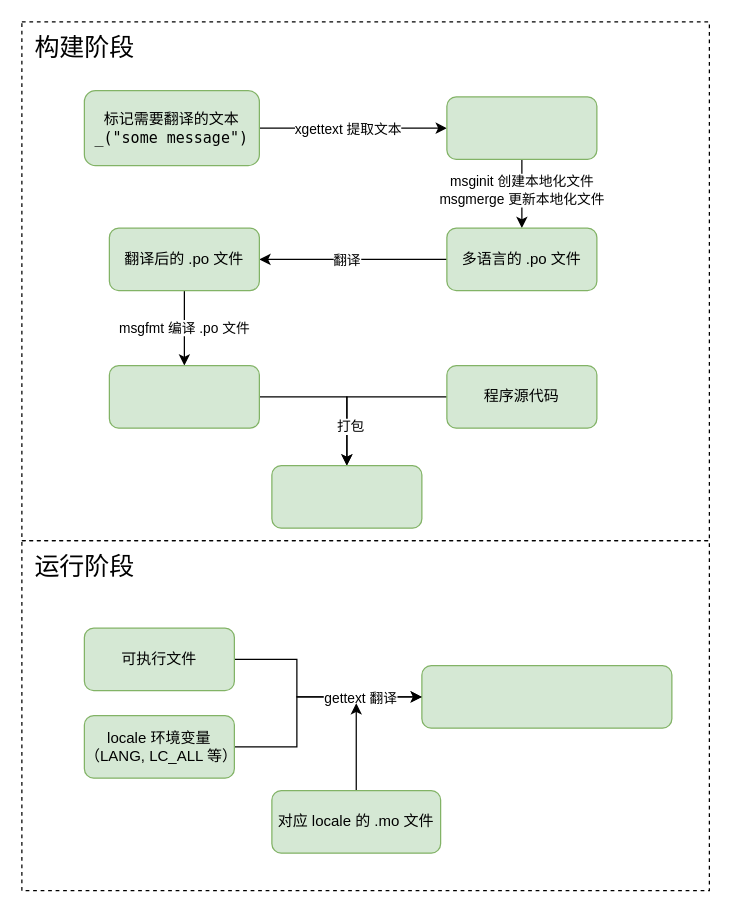
The diagram is 731 pixels wide and 913 high, and some of its shapes have lost their labels. Here are the shapes that lost their labels. From the top down, the centre of each, then its label:
(521,127): .pot 文件模板
(183,396): 多语言的 .mo 文件
(346,496): 程序库
(546,696): 翻译后的字符串 _("some message") == "某些信息"
